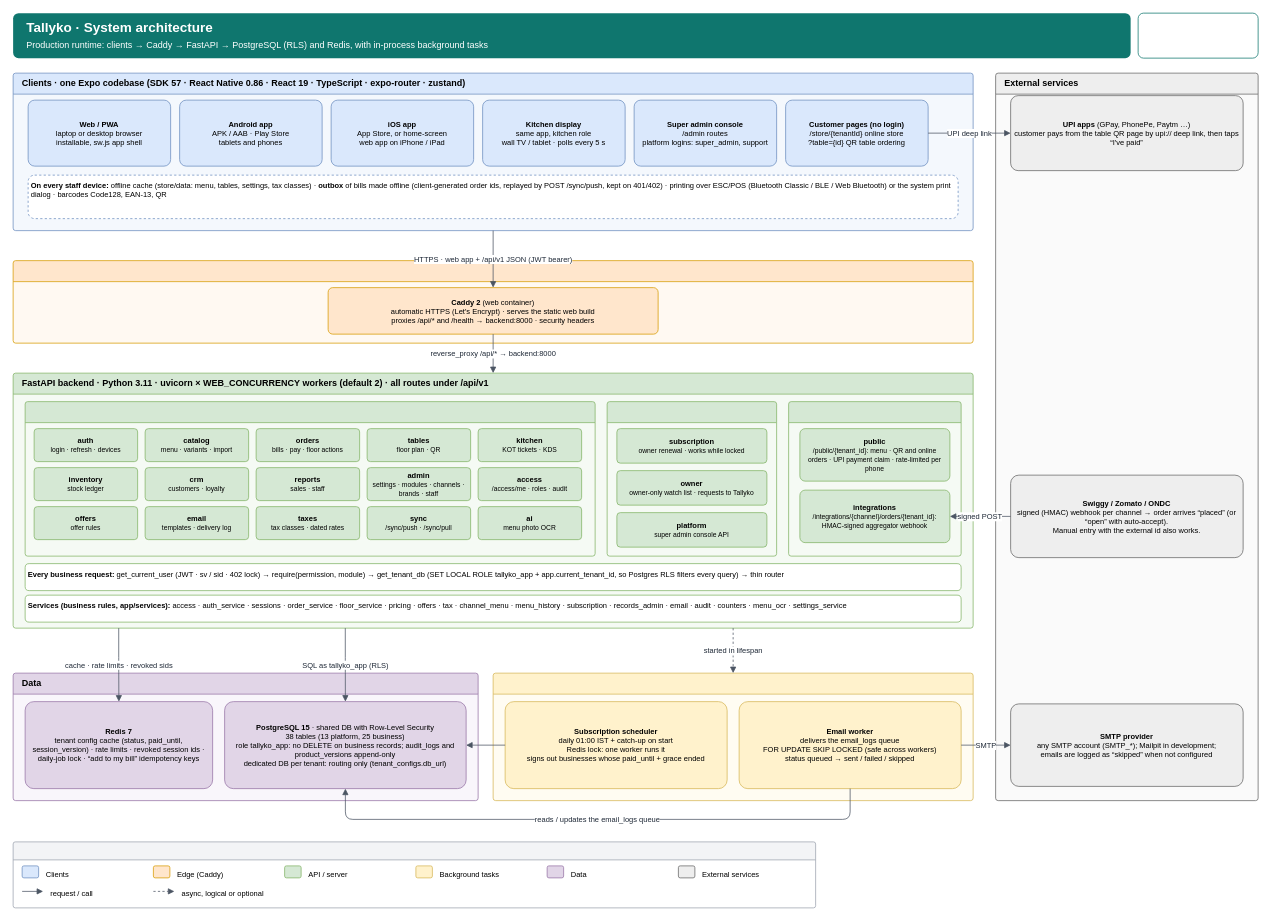
Some shapes in this 1271 by 921 pixel diagram are drawn without their labels. The shapes that lost their labels are listed below. From the top down, each one's box as (x1, y1, x2, y2) in pixels, then its label:
(1137, 12, 1258, 58): v2.0.0 2026-10-25
(12, 260, 973, 343): Edge
(24, 401, 595, 556): Business routers (staff and owner logins)
(606, 401, 777, 556): Owner and platform
(788, 401, 961, 556): Public and integrations
(492, 672, 973, 801): Background tasks · in-process asyncio tasks started in the API lifespan
(12, 841, 816, 908): Legend
